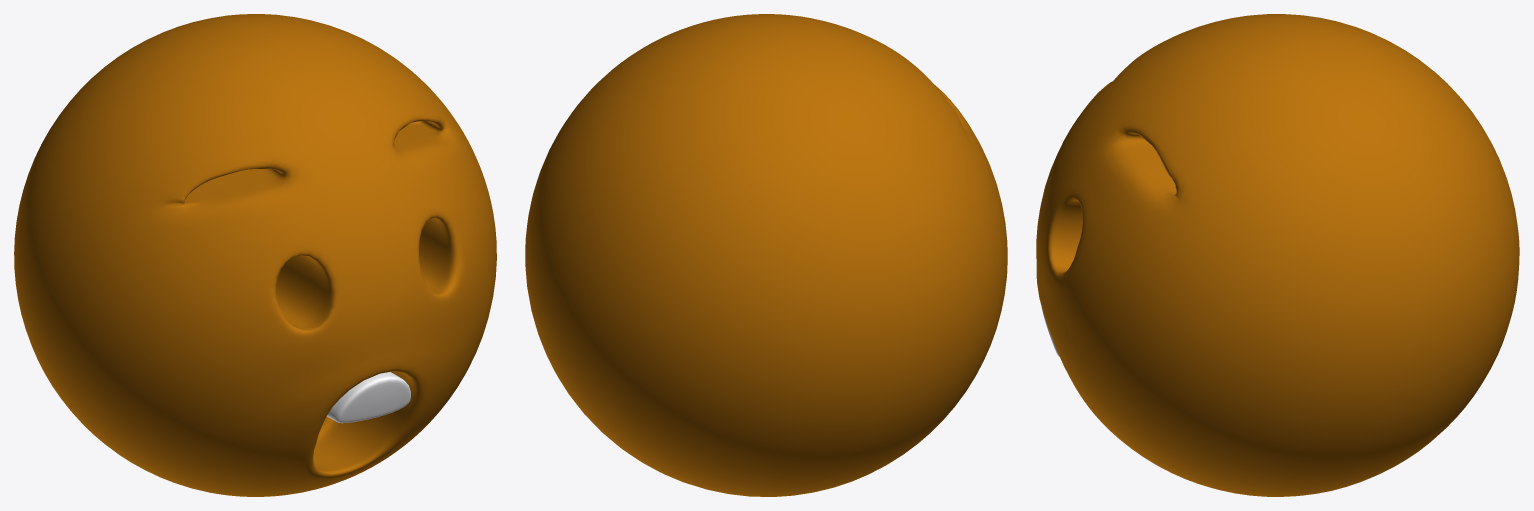
File: surprised FBX.FBX
The picture shows the model from 3 angles, left to right: view 1: azimuth 30°, elevation 25°; view 2: azimuth 150°, elevation 25°; view 3: azimuth 270°, elevation 25°; orthographic projection.
Visible parts, largest first — view 1: Group62138, Group60962; view 2: Group62138; view 3: Group62138.
Boxes of the visible parts, box(x1,y1,x2,y2) form: Group62138: box(14, 14, 496, 496); Group60962: box(327, 372, 410, 423); Group62138: box(525, 14, 1007, 496); Group62138: box(1036, 14, 1519, 496).
Size of the model in its own units: 23.06 by 23.09 by 23.06.
